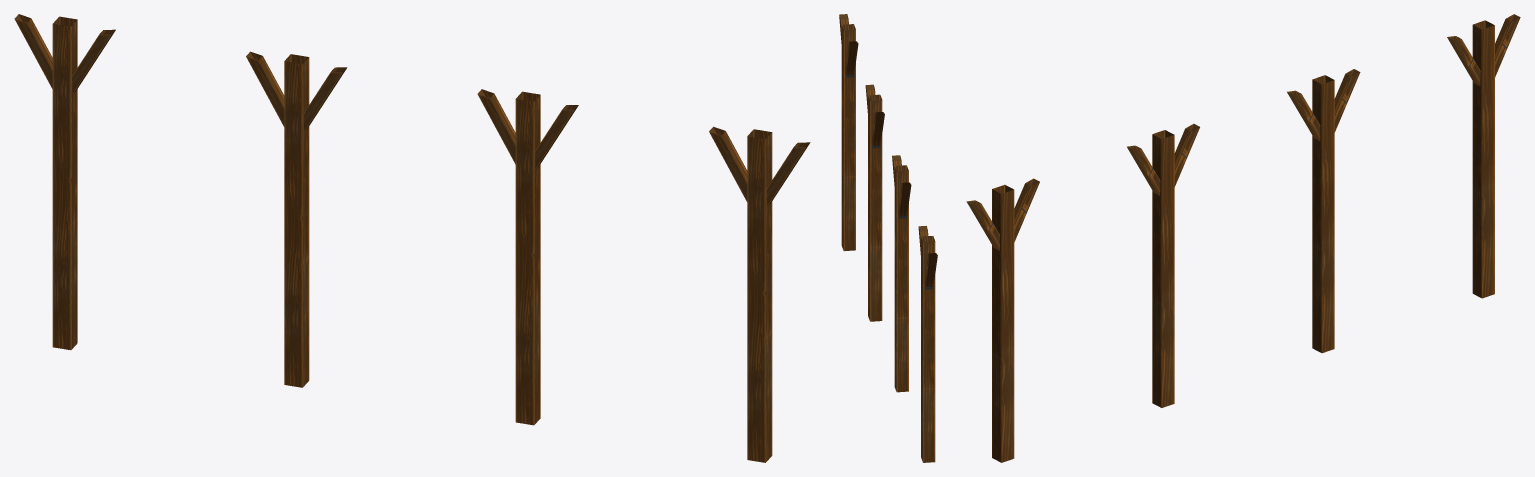
3 views of the same model, side by side, from view 1: azimuth 30°, elevation 25°; view 2: azimuth 150°, elevation 25°; view 3: azimuth 270°, elevation 25° (orthographic). The views are drawn at different scales.
Visible parts, largest first — view 1: Cube.600; view 2: Cube.600; view 3: Cube.600.
Boxes of the visible parts, x1,y1,x2,y2 form: Cube.600: (14, 14, 810, 462); Cube.600: (839, 14, 937, 462); Cube.600: (966, 14, 1520, 462).
Size of the model in its own units: 898 by 590 by 1102.
1 material, 1 textured.
